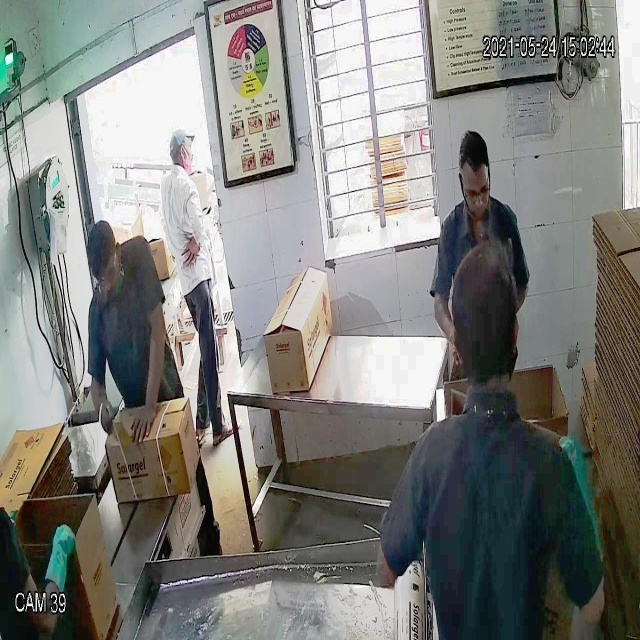Gafas: (90, 258, 120, 292)
